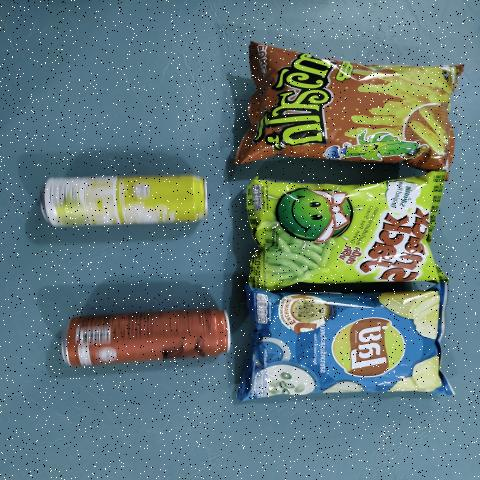coke_red: (62, 315, 226, 359)
lay_blue: (265, 300, 439, 392)
singha_yellow: (44, 177, 202, 221)
snack_jack: (276, 185, 433, 283)
twisco: (260, 64, 448, 154)
